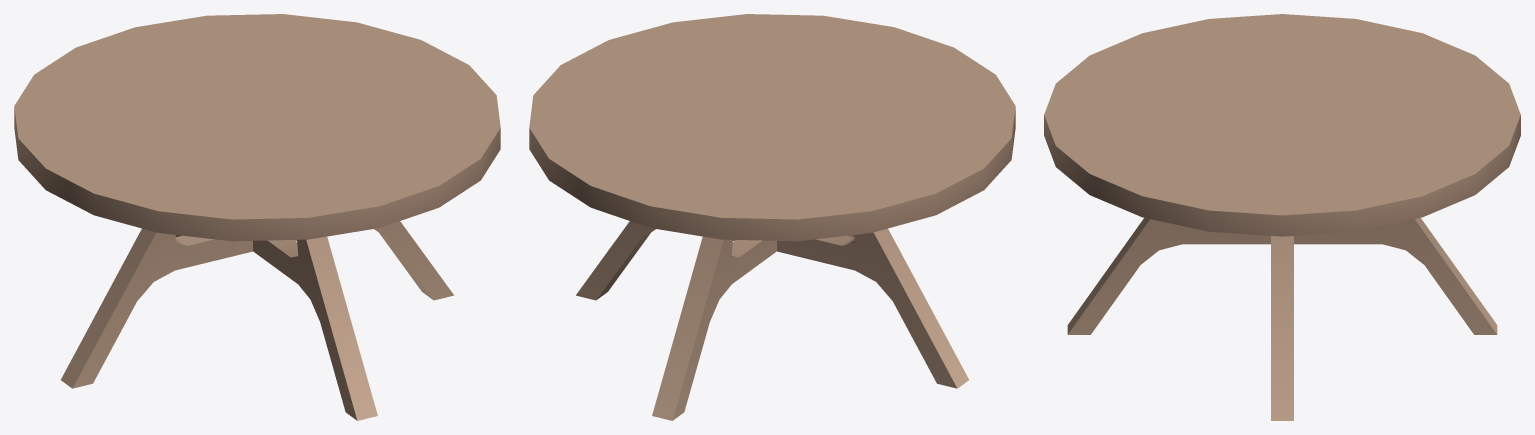
The model's file is table-kitchen-round-glass-wood.glb.
3 renders of one model, left to right at view 1: azimuth 30°, elevation 25°; view 2: azimuth 150°, elevation 25°; view 3: azimuth 270°, elevation 25°, orthographic. The views are drawn at different scales.
Visible parts, largest first — view 1: table-kitchen-round-glass-wood; view 2: table-kitchen-round-glass-wood; view 3: table-kitchen-round-glass-wood.
Part boxes in pixels (x1,y1,x2,y2): table-kitchen-round-glass-wood: (14,14,500,420); table-kitchen-round-glass-wood: (529,14,1015,420); table-kitchen-round-glass-wood: (1044,14,1520,420).
Bounding box in the file's own units: 1.03 × 0.5146 × 1.03.
